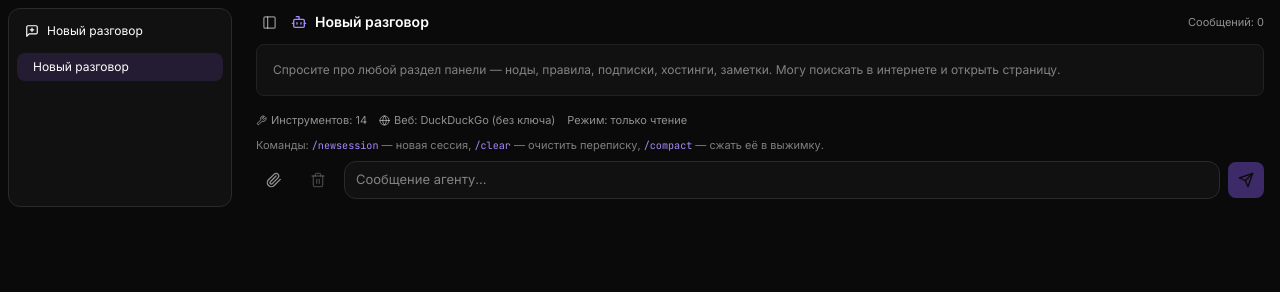
it: AiChat › /newsession opens an empty session and leaves the old one in the list
Type "первый вопрос" into the field with placeholder "Сообщение агенту..." at coordinates (782, 180), box [344, 161, 1220, 198]
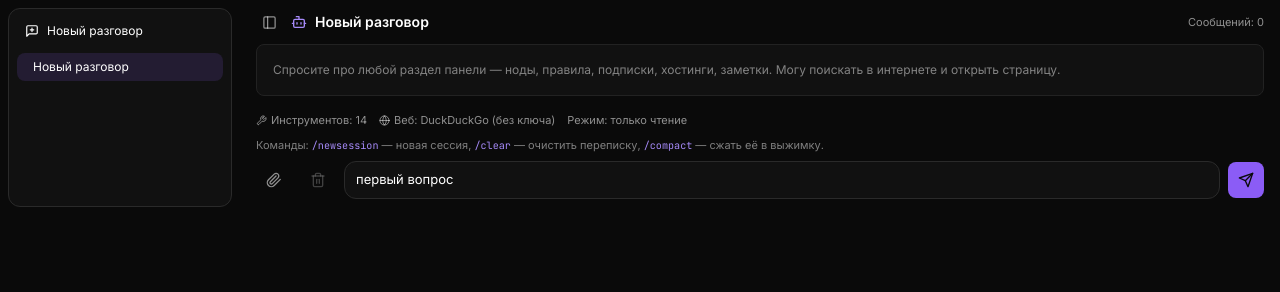
Press Enter in the field with placeholder "Сообщение агенту...", box [344, 161, 1220, 198]
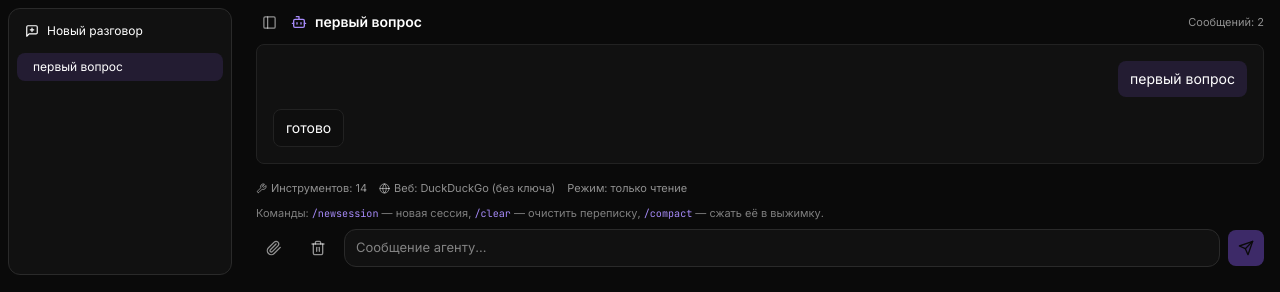
Check: the button titled "Очистить" is enabled, box [300, 230, 336, 266]
Type "/newsession" into the field with placeholder "Сообщение агенту..." at coordinates (782, 248), box [344, 229, 1220, 266]
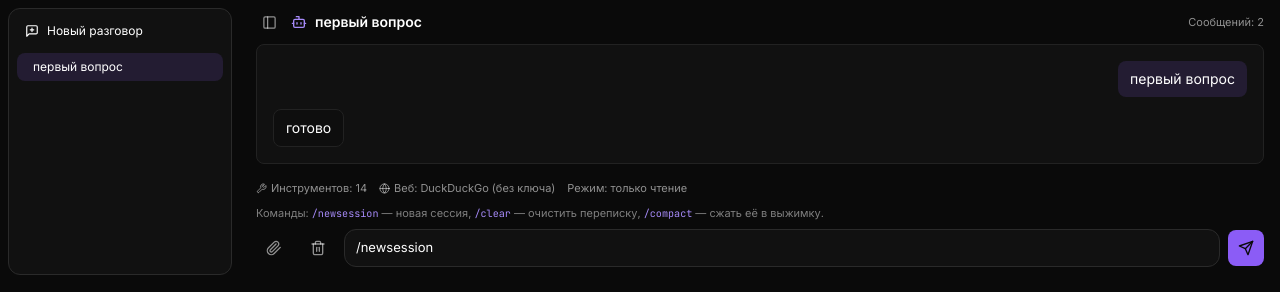
Press Enter in the field with placeholder "Сообщение агенту...", box [344, 229, 1220, 266]
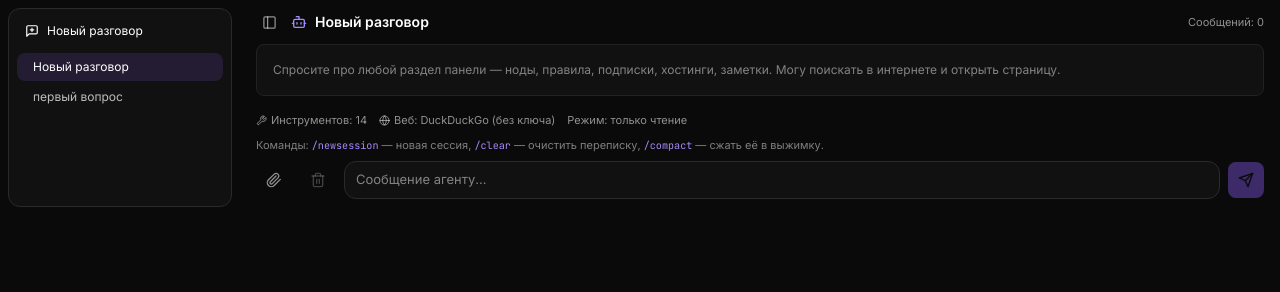
Check: the text with test id "ai-session-row" reads "первый вопрос", box [33, 89, 123, 104]
Check: the number of buttons with test id "ai-session-row" is 2, box [17, 53, 223, 81]; [17, 83, 223, 111]
